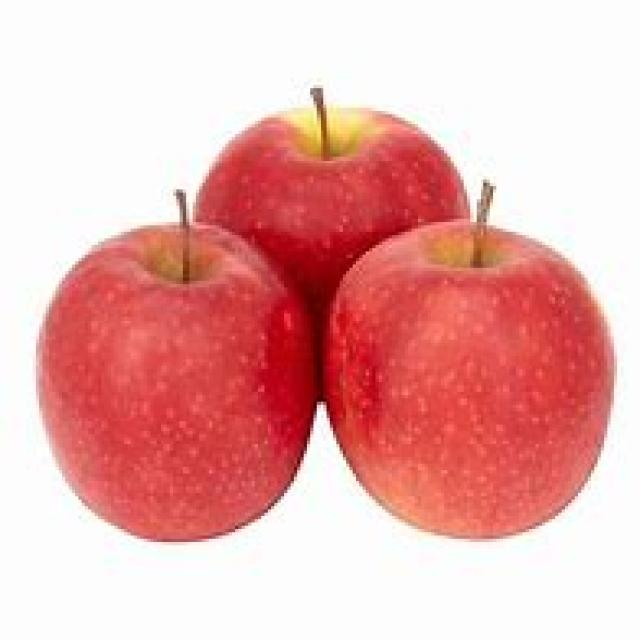apple: (323, 176, 619, 541), (36, 187, 320, 544)
